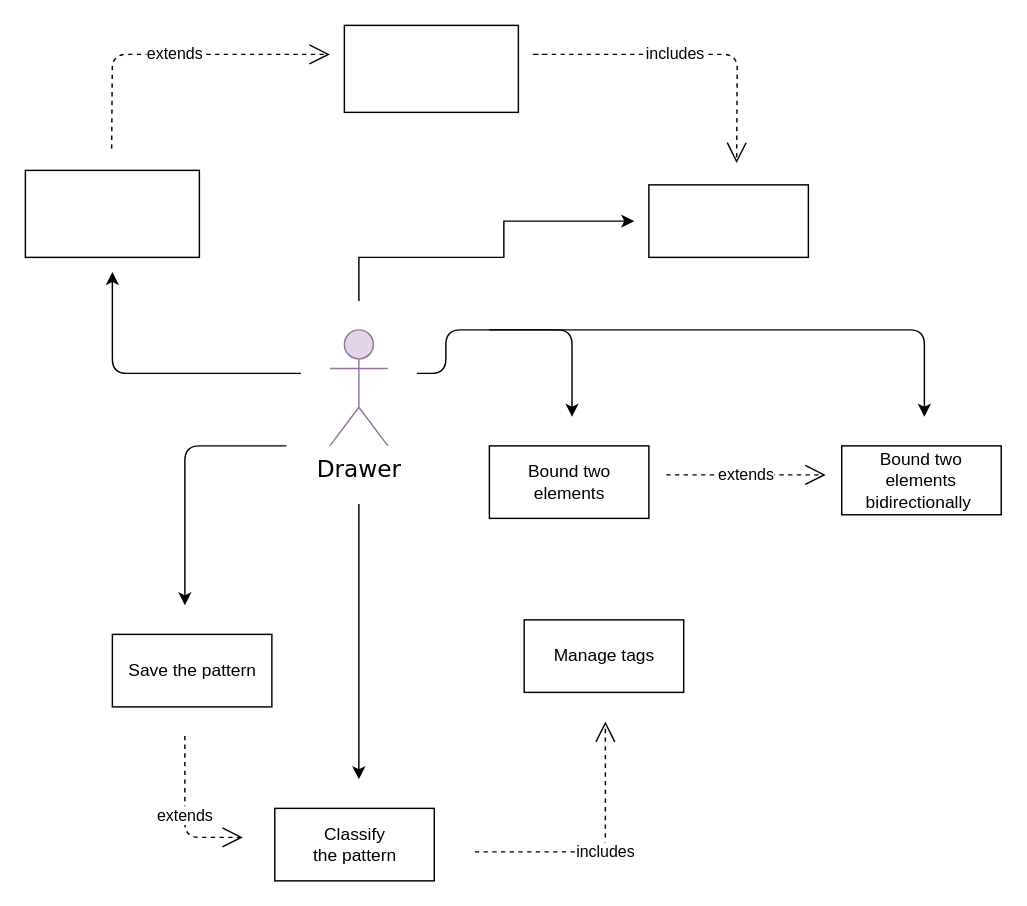
Some shapes in this 1027 by 906 pixel diagram are drawn without their labels. The shapes that lost their labels are listed below. From the top down, each one's centre as x and y in pixels, then its label:
the point at 430,68: Bound orphan elements
the point at 111,213: Remove a point with associated bonds
the point at 727,220: Insert a point
